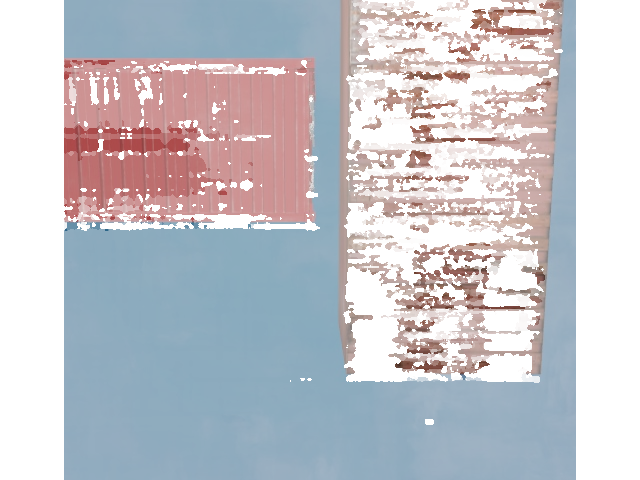container4: (338, 0, 570, 380)
container5: (0, 53, 322, 227)
